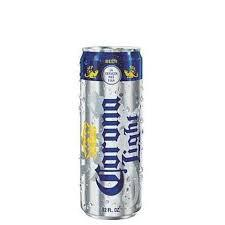beer: (78, 43, 146, 222)
